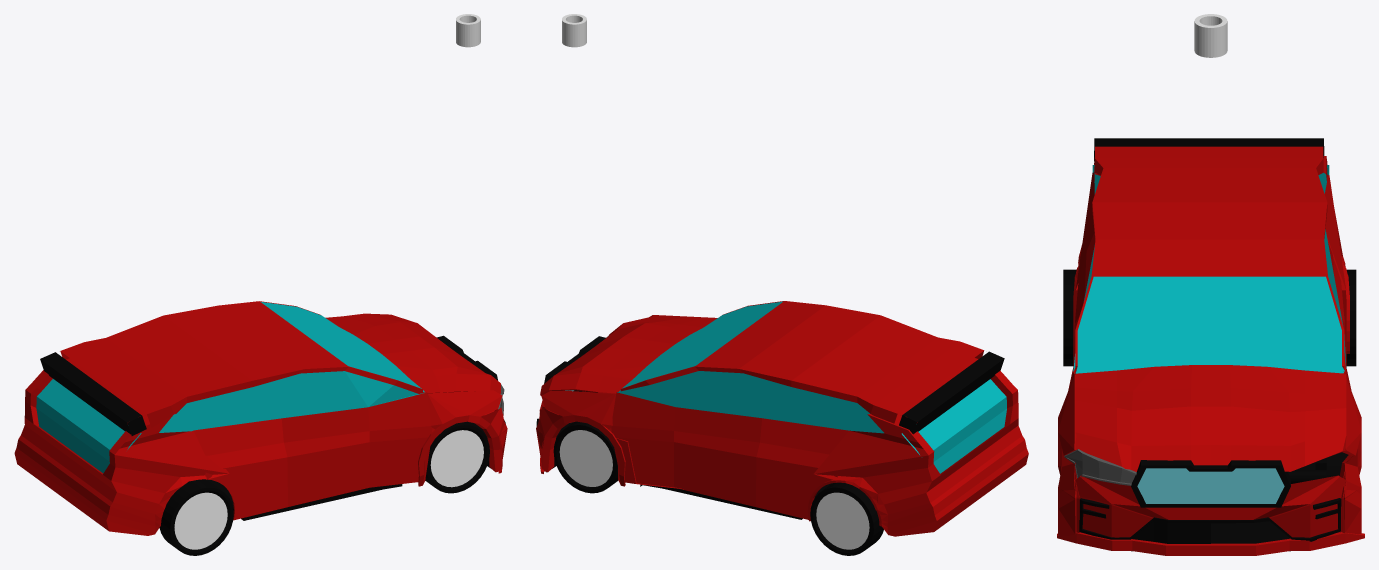
File: Car3.glb
3 renders of one model, left to right at view 1: azimuth 30°, elevation 25°; view 2: azimuth 150°, elevation 25°; view 3: azimuth 270°, elevation 25°, orthographic. The views are drawn at different scales.
Parts seen in each view (by area): view 1: Cube.006, Cube.009, Cube.020, Cube.007, Cylinder.003, Cylinder.001, Cube.005, Cube.008, Cube.004, Cylinder; view 2: Cube.006, Cube.010, Cube.020, Cube.007, Cylinder.003, Cylinder.001, Cube.005, Cube.008, Cylinder, Cube.004; view 3: Cube.006, Cube.020, Cube.005, Cube.012, Torus.003, Torus.004, Cube.003, Cube, Cube.008, Cylinder.003, Cube.017, Cube.004 (+5 smaller).
Part boxes in pixels (bbox=[...]): Cube.006: bbox=[14, 301, 507, 535]; Cube.009: bbox=[159, 371, 423, 432]; Cube.020: bbox=[325, 313, 500, 393]; Cube.007: bbox=[36, 379, 141, 473]; Cylinder.003: bbox=[159, 479, 233, 555]; Cylinder.001: bbox=[425, 421, 489, 493]; Cube.005: bbox=[261, 302, 424, 392]; Cube.008: bbox=[40, 352, 146, 435]; Cube.004: bbox=[202, 422, 491, 520]; Cylinder: bbox=[456, 14, 480, 47]; Cube.006: bbox=[536, 301, 1028, 536]; Cube.010: bbox=[617, 371, 883, 433]; Cube.020: bbox=[540, 316, 716, 395]; Cube.007: bbox=[901, 379, 1006, 473]; Cylinder.003: bbox=[810, 482, 883, 555]; Cylinder.001: bbox=[553, 421, 618, 493]; Cube.005: bbox=[619, 301, 782, 391]; Cube.008: bbox=[899, 351, 1004, 434]; Cylinder: bbox=[562, 14, 586, 47]; Cube.004: bbox=[546, 422, 831, 519]; Cube.006: bbox=[1058, 146, 1361, 536]; Cube.020: bbox=[1075, 365, 1346, 471]; Cube.005: bbox=[1075, 276, 1344, 373]; Cube.012: bbox=[1137, 468, 1284, 503]; Torus.003: bbox=[1075, 475, 1211, 537]; Torus.004: bbox=[1210, 475, 1346, 537]; Cube.003: bbox=[1057, 532, 1364, 555]; Cube: bbox=[1131, 460, 1290, 507]; Cube.008: bbox=[1094, 138, 1324, 163]; Cylinder.003: bbox=[1063, 269, 1356, 366]; Cube.017: bbox=[1079, 498, 1341, 541]; Cube.004: bbox=[1131, 458, 1326, 551].
Bounding box in the file's own units: 38.56 × 36.61 × 18.63.
